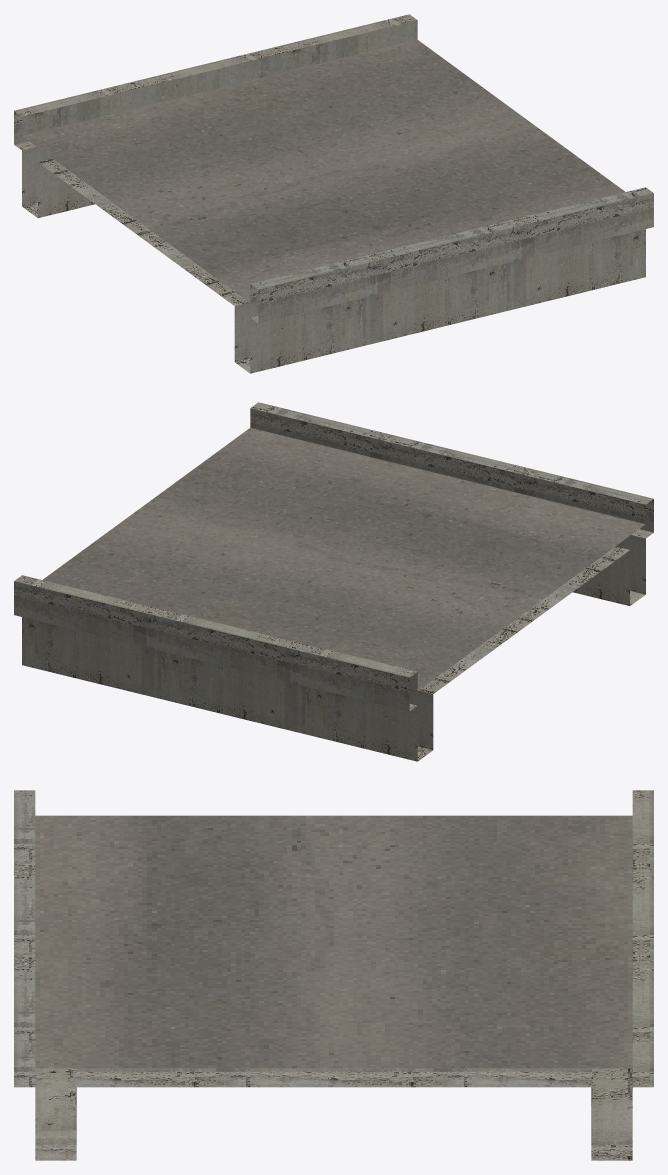
File: road_3_bridge_segment_no_sides.glb
3 views of the same model, one above another, from view 1: azimuth 30°, elevation 25°; view 2: azimuth 150°, elevation 25°; view 3: azimuth 270°, elevation 25° (orthographic). The views are drawn at different scales.
Visible parts, largest first — view 1: road_3_bridge_segment_no_sides; view 2: road_3_bridge_segment_no_sides; view 3: road_3_bridge_segment_no_sides.
Boxes of the visible parts, x1,y1,x2,y2 form: road_3_bridge_segment_no_sides: (14,14,653,373); road_3_bridge_segment_no_sides: (14,402,653,761); road_3_bridge_segment_no_sides: (14,790,653,1160).
Size of the model in its own units: 16 by 3.48 by 17.13.
Materials: 2 (2 with a texture image).
